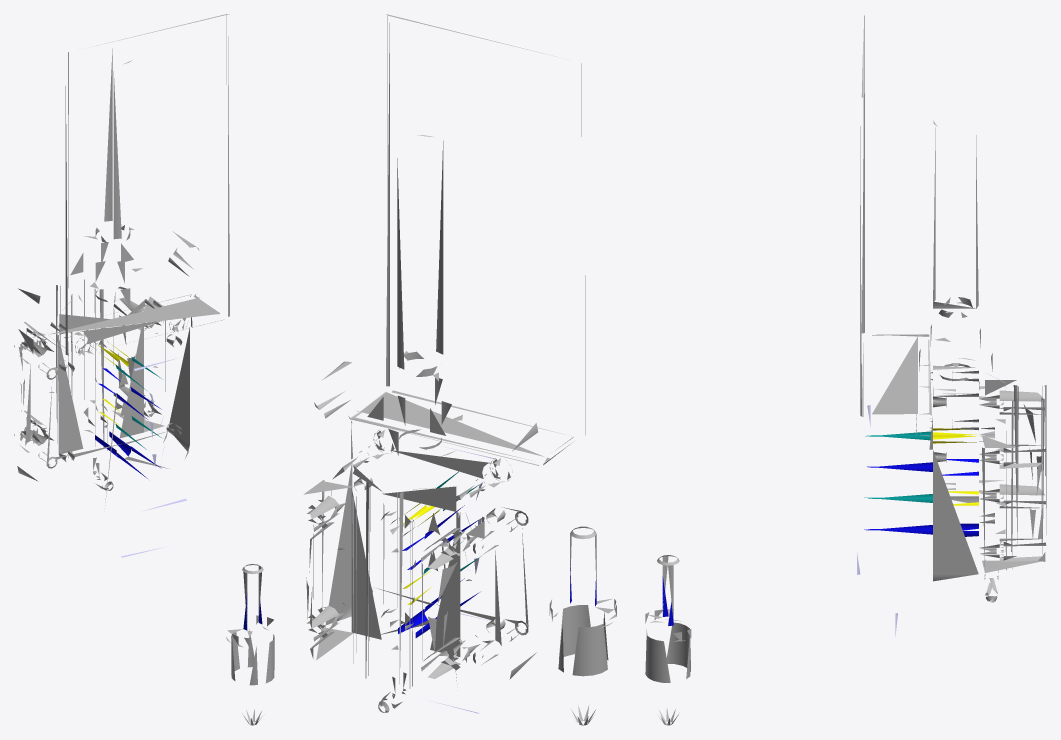
3 views of the same model, side by side, from view 1: azimuth 30°, elevation 25°; view 2: azimuth 150°, elevation 25°; view 3: azimuth 270°, elevation 25° (orthographic). The views are drawn at different scales.
Parts seen in each view (by area): view 1: F19721000063102000112_001_sym_of_zb_ub_stiftzieher_11_ba (×2); view 2: F19721000063102000112_001_sym_of_zb_ub_stiftzieher_11_ba (×2); view 3: F19721000063102000112_001_sym_of_zb_ub_stiftzieher_11_ba (×3).
Part boxes in pixels (x1,y1,x2,y2): F19721000063102000112_001_sym_of_zb_ub_stiftzieher_11_ba (×2): (14, 14, 274, 725); F19721000063102000112_001_sym_of_zb_ub_stiftzieher_11_ba (×2): (303, 14, 616, 725); F19721000063102000112_001_sym_of_zb_ub_stiftzieher_11_ba (×3): (645, 15, 1046, 725).
Bounding box in the file's own units: 88 × 174 × 318.
